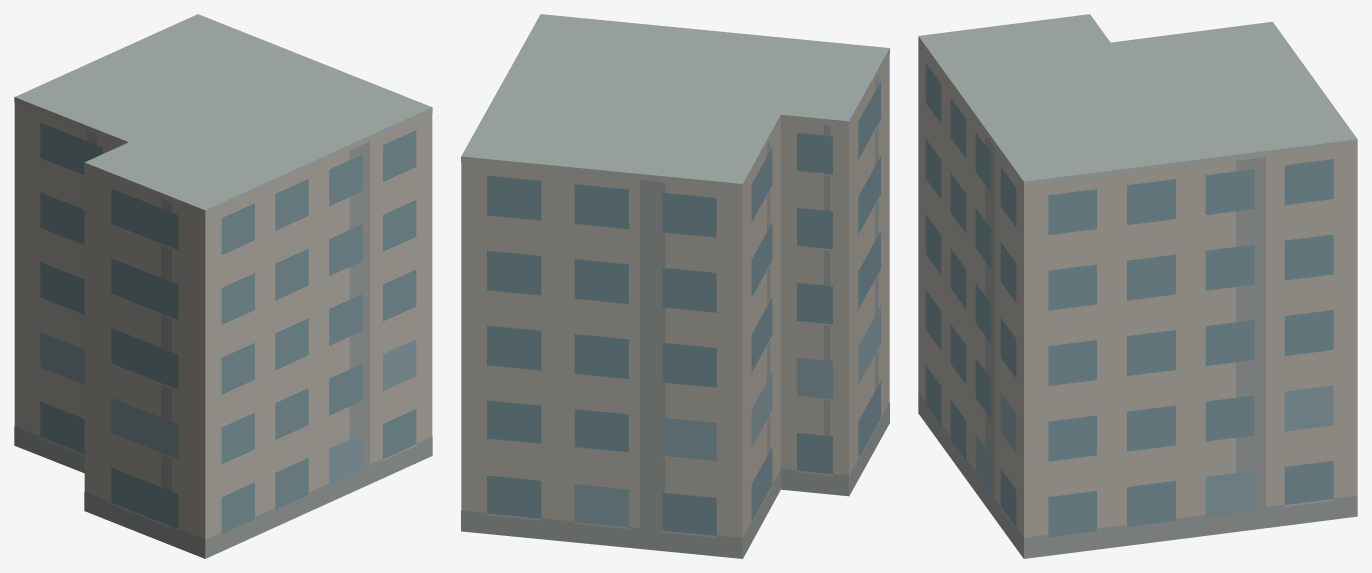
The model's file is survey-upis-32767193.glb.
3 views of the same model, side by side, from view 1: azimuth 30°, elevation 25°; view 2: azimuth 150°, elevation 25°; view 3: azimuth 270°, elevation 25° (orthographic). The views are drawn at different scales.
Parts seen in each view (by area): view 1: survey-upis-32767193.tmp; view 2: survey-upis-32767193.tmp; view 3: survey-upis-32767193.tmp.
Boxes of the visible parts, x1,y1,x2,y2 form: survey-upis-32767193.tmp: [14, 14, 432, 558]; survey-upis-32767193.tmp: [461, 14, 889, 558]; survey-upis-32767193.tmp: [918, 14, 1357, 558].
Size of the model in its own units: 14.54 by 15.25 by 16.1.
